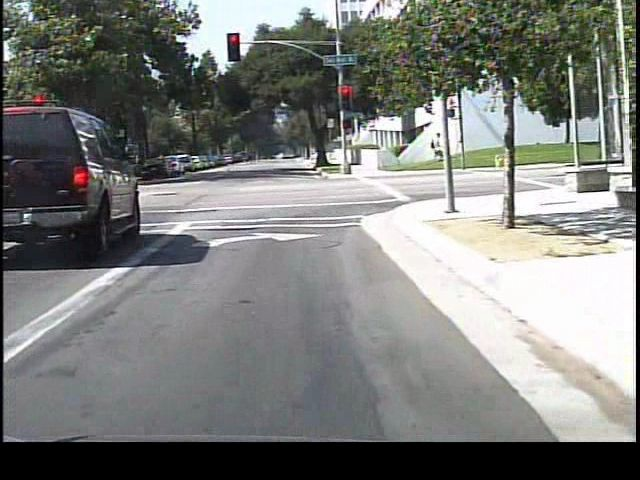person: (426, 127, 444, 159)
